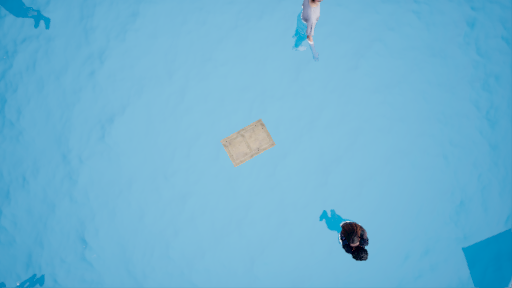person: (327, 209, 377, 266), (290, 1, 333, 67)
